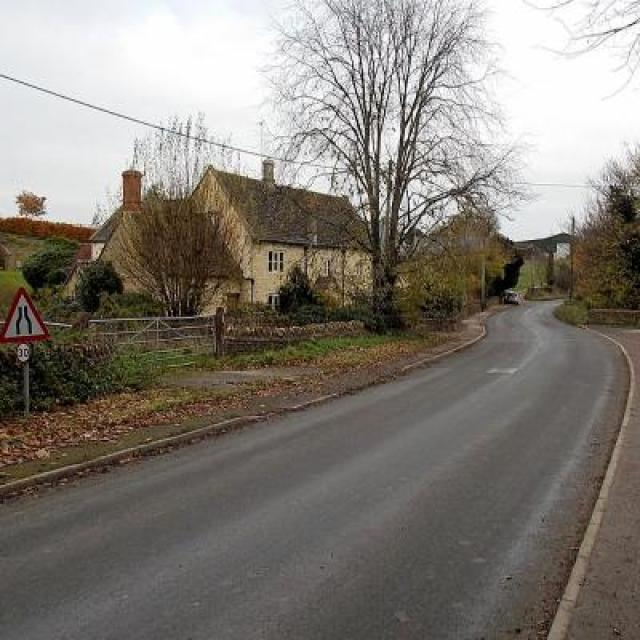clear-road: (0, 304, 628, 640)
